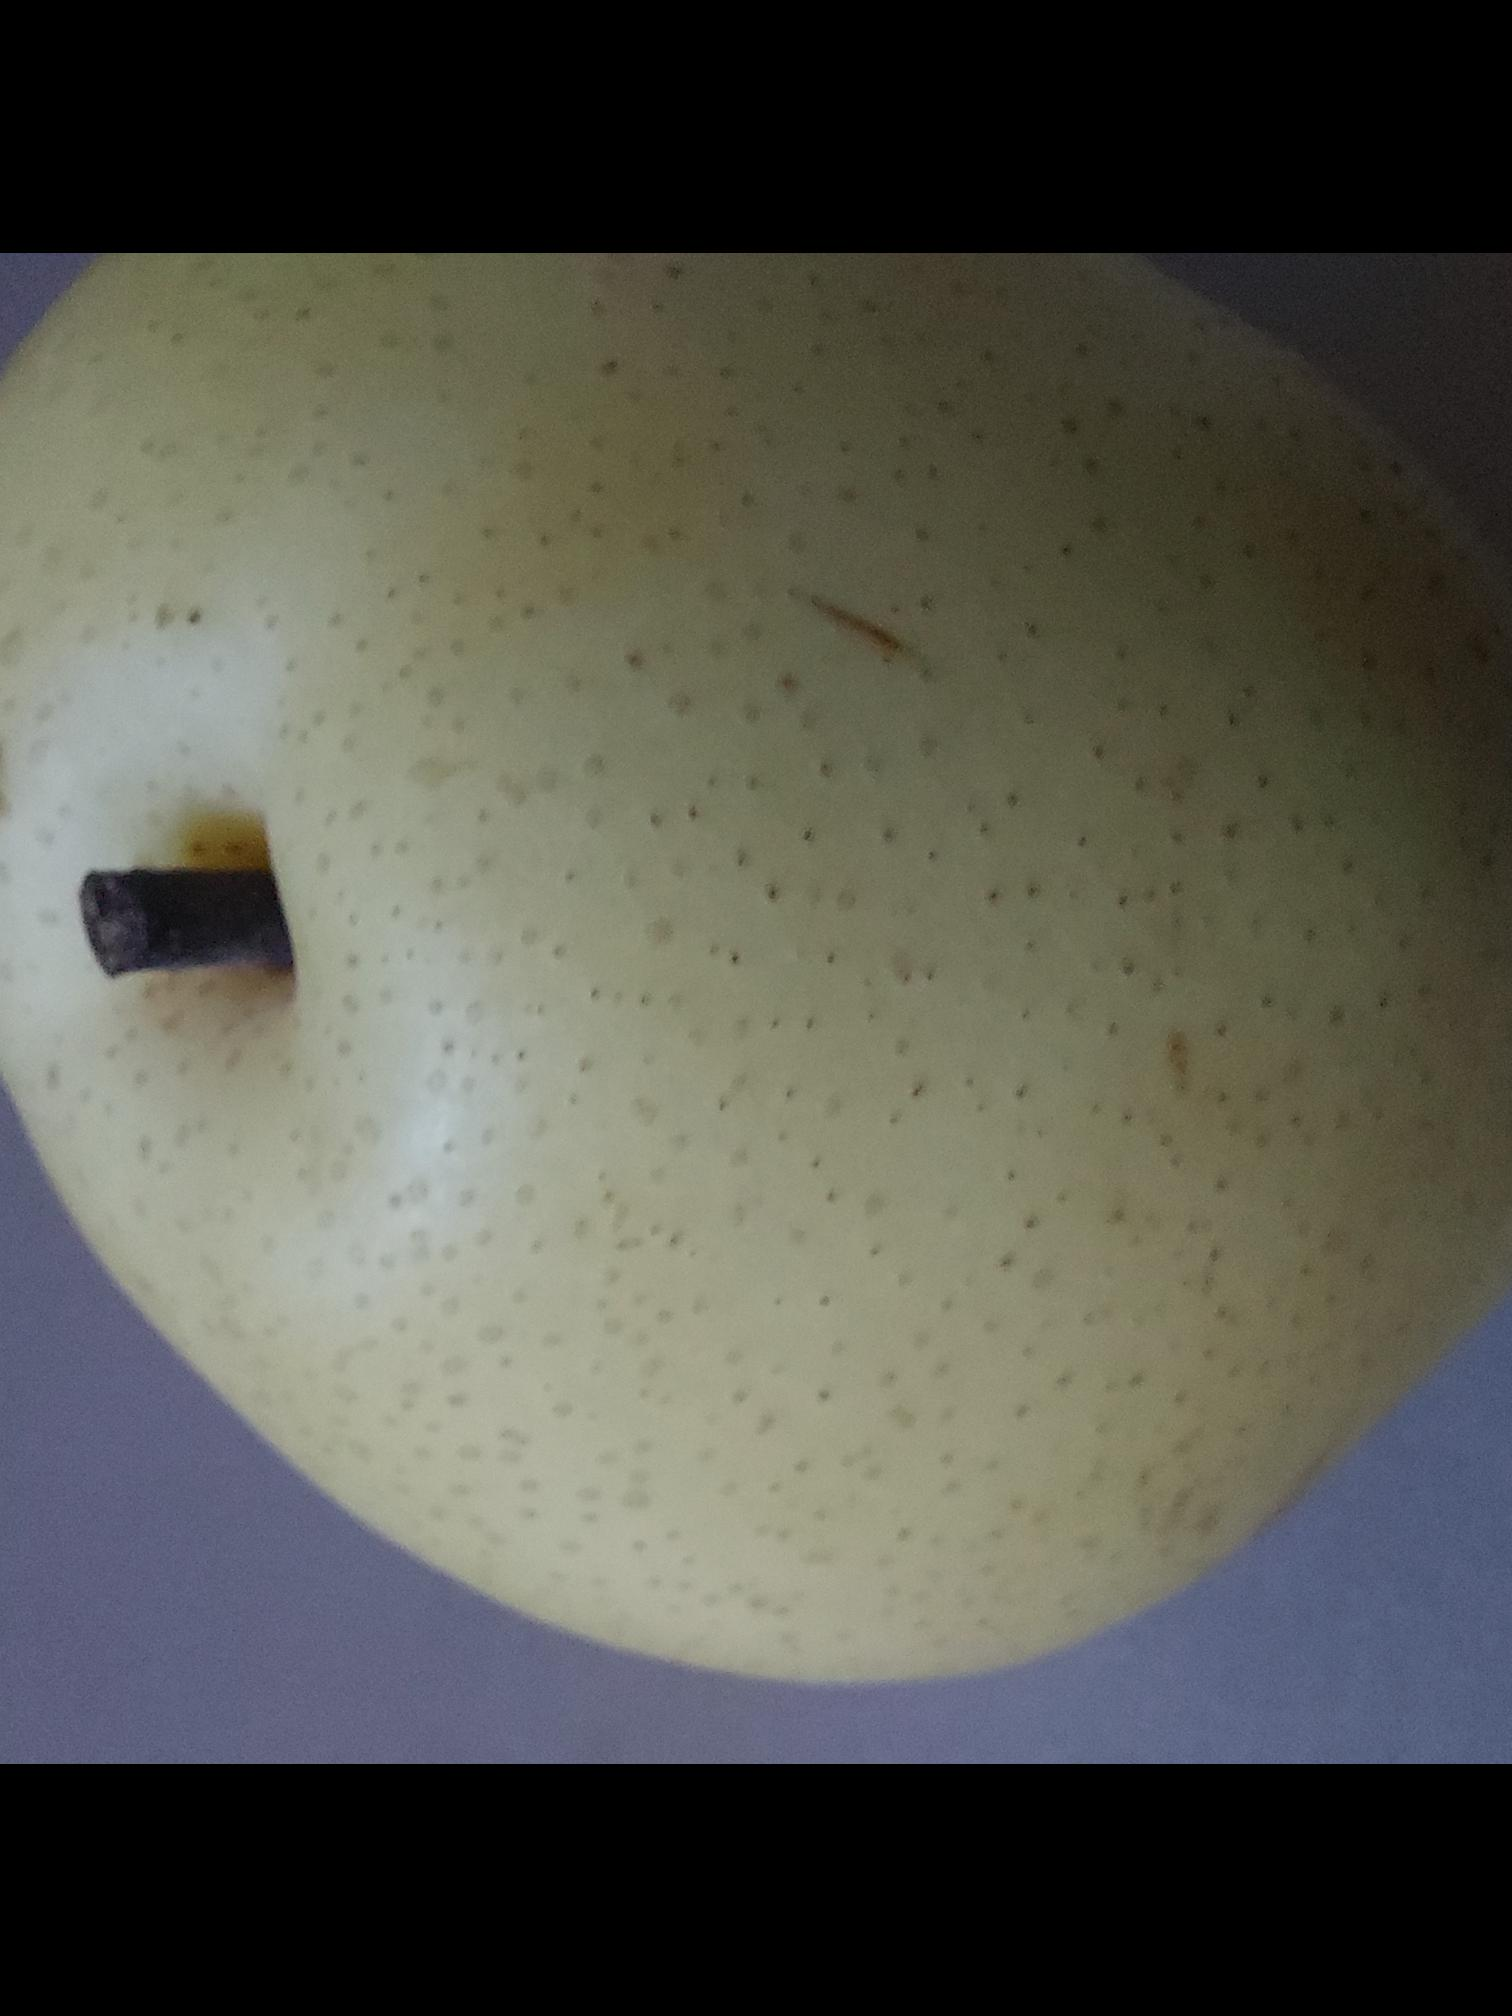Good Pear: (0, 256, 1512, 1764)
